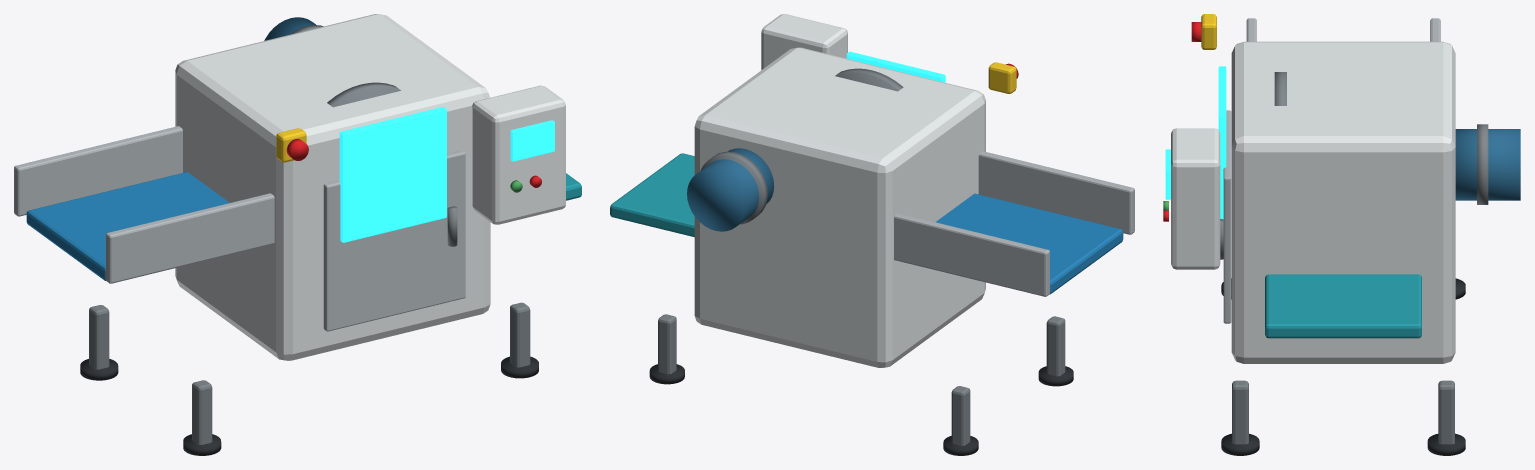
Rendered from vegetable-cutter.glb.
The picture shows the model from 3 angles, left to right: view 1: azimuth 30°, elevation 25°; view 2: azimuth 150°, elevation 25°; view 3: azimuth 270°, elevation 25°; orthographic projection. The views are drawn at different scales.
Parts seen in each view (by area): view 1: main_cabinet, service_door, safety_window, cabinet, infeed_guard, infeed_belt, infeed_guard.001, hmi, leg_2, leg_3, leg_1, knife_disc (+5 smaller); view 2: main_cabinet, infeed_guard.001, infeed_belt, infeed_guard, motor_body, outfeed_belt, cabinet, leg_2, leg_1, leg_4, motor_cap, safety_window (+2 smaller); view 3: main_cabinet, outfeed_belt, cabinet, motor_body, service_door, leg_3, leg_4, safety_window, motor_cap, foot_4, foot_3, yellow_guard (+1 smaller).
Part boxes in pixels (<box>): main_cabinet: <box>175,14,490,360</box>; service_door: <box>323,150,465,331</box>; safety_window: <box>339,107,446,242</box>; cabinet: <box>472,85,565,224</box>; infeed_guard: <box>105,193,274,283</box>; infeed_belt: <box>26,172,229,280</box>; infeed_guard.001: <box>14,126,182,216</box>; hmi: <box>510,120,554,161</box>; leg_2: <box>89,305,109,369</box>; leg_3: <box>510,302,530,367</box>; leg_1: <box>192,380,212,444</box>; knife_disc: <box>327,82,400,107</box>; main_cabinet: <box>694,47,985,367</box>; infeed_guard.001: <box>894,213,1049,296</box>; infeed_belt: <box>935,193,1123,294</box>; infeed_guard: <box>978,151,1134,234</box>; motor_body: <box>687,148,774,231</box>; outfeed_belt: <box>610,153,694,237</box>; cabinet: <box>761,14,847,69</box>; leg_2: <box>951,386,970,445</box>; leg_1: <box>1046,316,1065,376</box>; leg_4: <box>658,314,676,374</box>; motor_cap: <box>700,151,767,224</box>; safety_window: <box>846,51,945,82</box>; main_cabinet: <box>1231,41,1455,363</box>; outfeed_belt: <box>1265,274,1421,338</box>; cabinet: <box>1171,128,1220,269</box>; motor_body: <box>1455,129,1520,200</box>; service_door: <box>1223,110,1231,323</box>; leg_3: <box>1232,380,1248,444</box>; leg_4: <box>1438,380,1454,444</box>; safety_window: <box>1218,66,1226,219</box>; motor_cap: <box>1477,124,1488,204</box>; foot_4: <box>1427,433,1465,455</box>; foot_3: <box>1221,433,1259,455</box>; yellow_guard: <box>1201,14,1216,49</box>.
Size of the model in its own units: 2.49 by 1.53 by 1.59.
